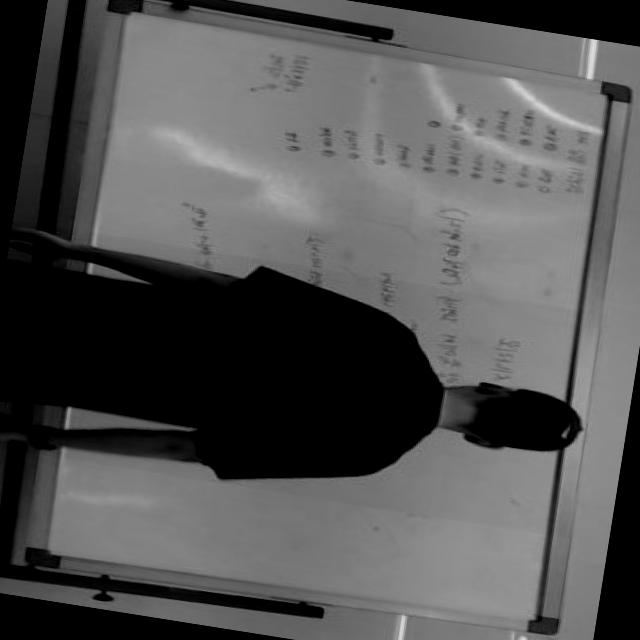Instructor: (11, 265, 605, 512)
White-board: (33, 2, 627, 629)
